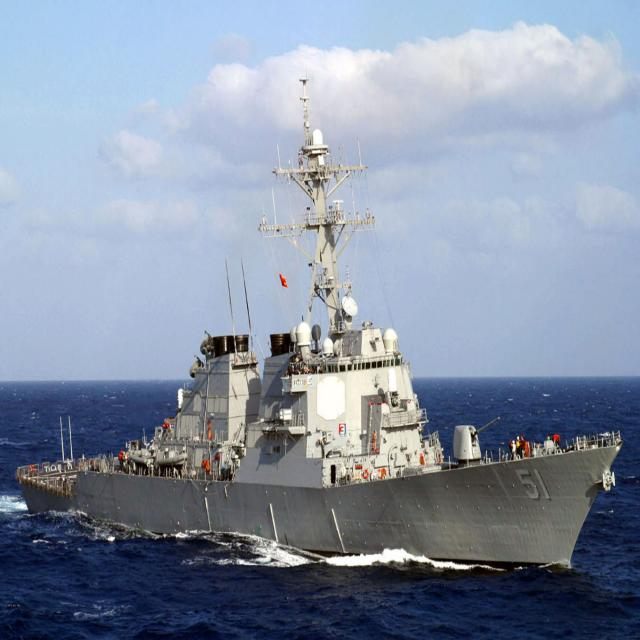navalvessels: (15, 82, 603, 596)
